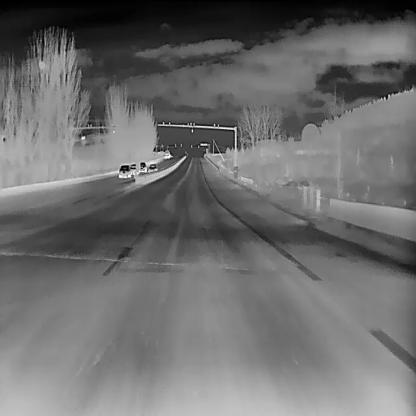car: (118, 164, 130, 177), (138, 161, 147, 172), (130, 162, 138, 174), (147, 164, 158, 172)
truck: (164, 150, 170, 158)
